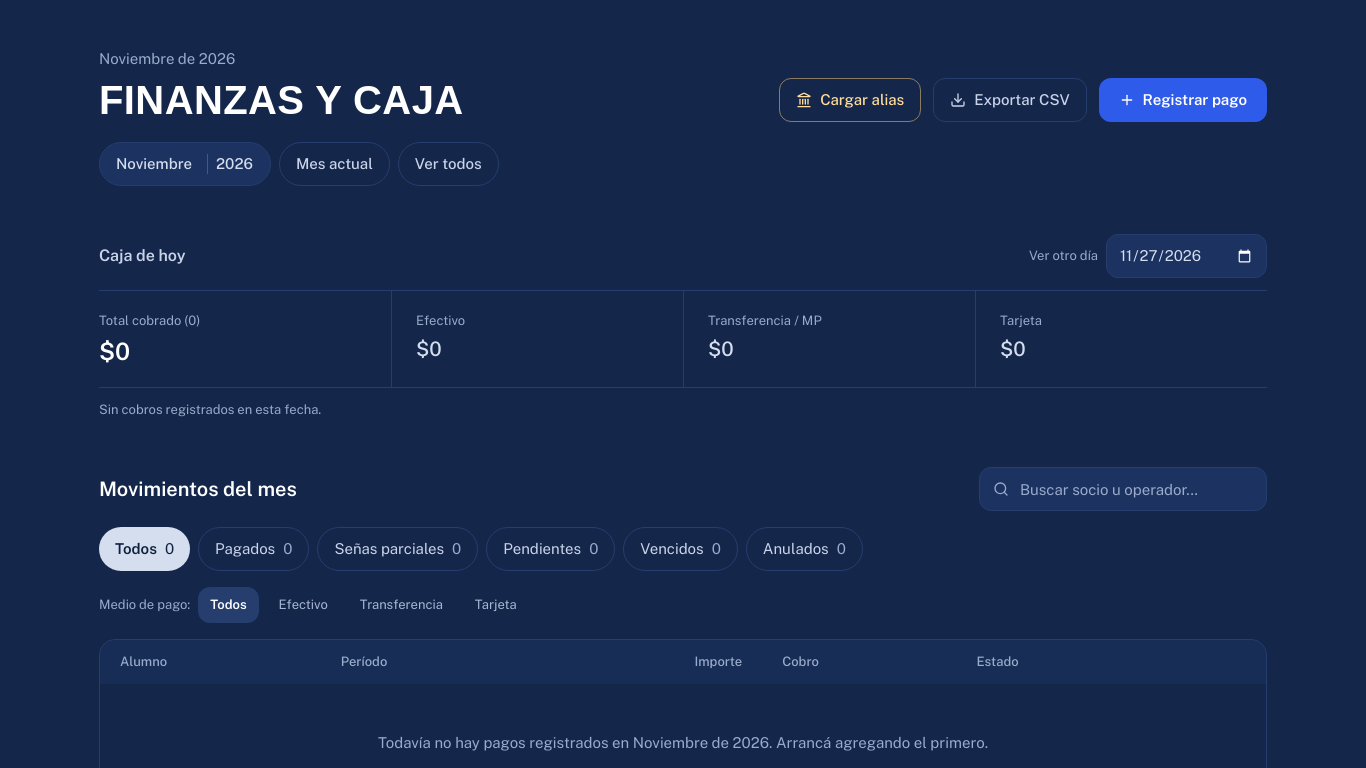
Scenario: Finanzas del administrador › sin alias cargado, el formulario no sugiere un alias que parezca real
Click the button "Cargar alias": {"x": 850, "y": 100} [779,78,921,122]
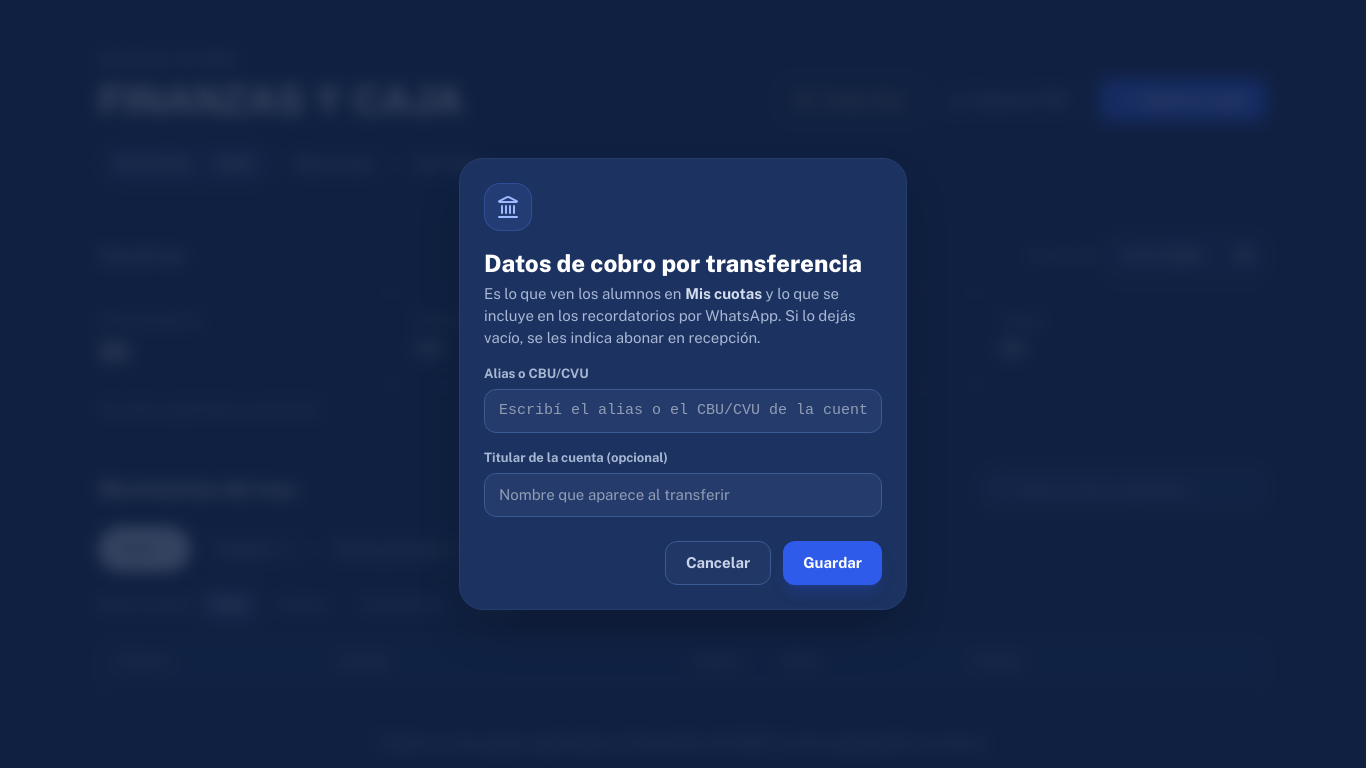
Check: the field named "Alias de transferencia" is empty, box [484,389,882,433]
